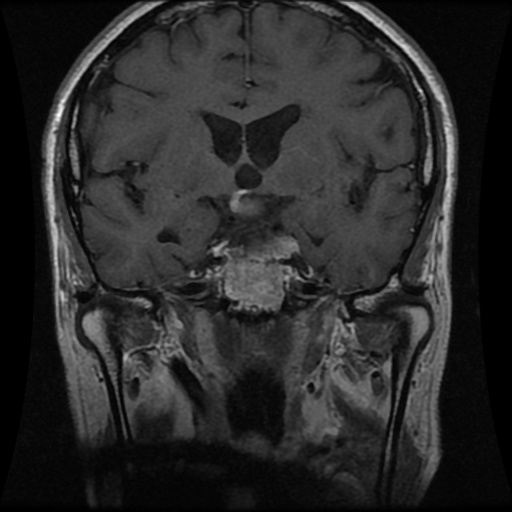pituitary: (208, 188, 300, 260)
